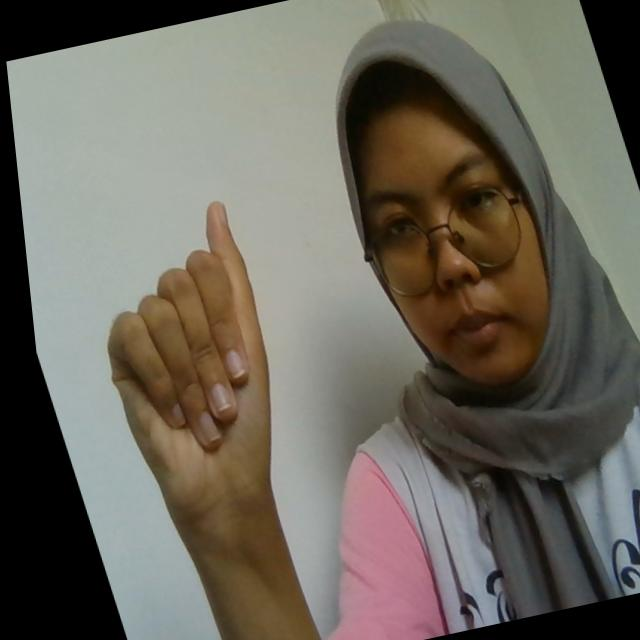A: (56, 196, 306, 511)
